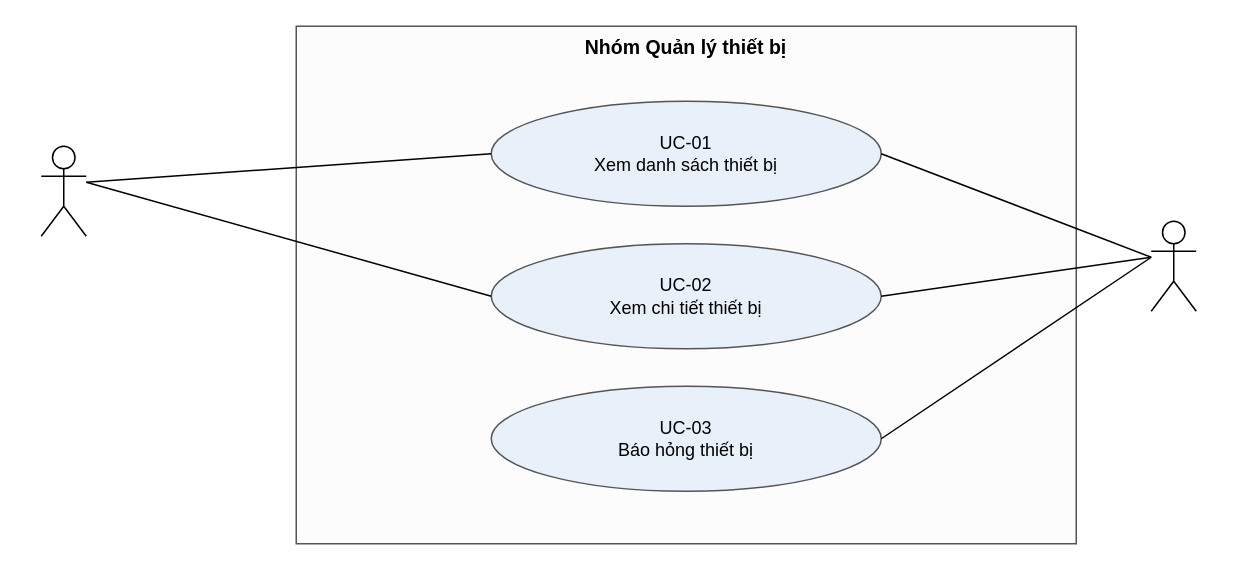
Image size: 1256x570. Some labels were removed from this diagram. Here are the shapes that lost their labels. From the top down, the box of each, then its label:
(40, 145, 86, 236): Điều phối
(1150, 220, 1196, 311): Đầu mối khoa
